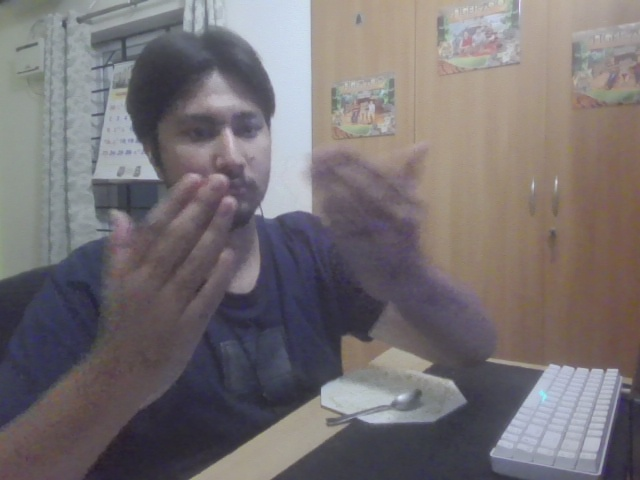thankyou: (98, 143, 432, 386)
